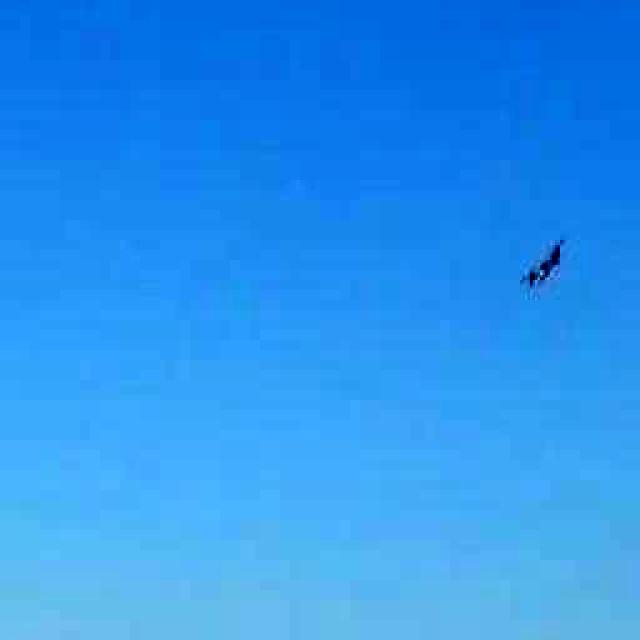bird: (505, 239, 580, 306)
